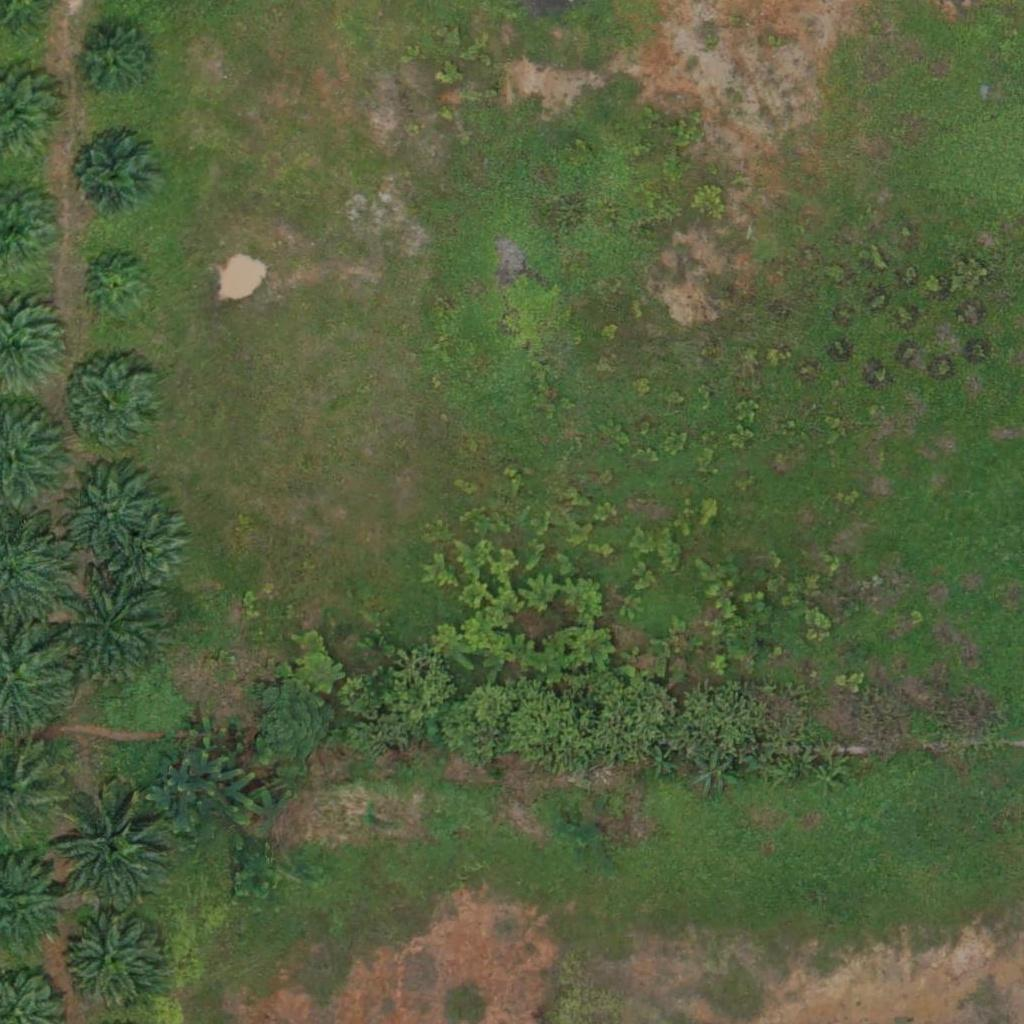Kelapa_Sawit: (55, 580, 168, 693), (58, 795, 170, 908), (62, 909, 162, 1010), (71, 362, 158, 450), (64, 469, 151, 557), (99, 509, 186, 597), (78, 21, 153, 97), (80, 141, 155, 217), (87, 255, 150, 318)
